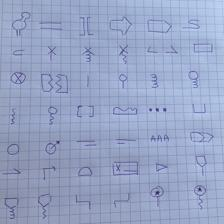aptamer: (12, 12, 31, 37)
assembly-scar: (38, 21, 62, 30)
blunt-restriction-site: (80, 17, 93, 36)
cds: (147, 19, 172, 33)
cds-arrow: (109, 17, 132, 35)
chromosomal-locus: (184, 19, 201, 29)
circular-plasmid: (12, 49, 26, 56)
composite: (145, 43, 177, 55)
dna-stability-element: (194, 155, 209, 176)
engineered-region: (192, 42, 214, 53)
five-prime-overhang: (75, 140, 97, 147)
five-prime-sticky-restriction-site: (73, 193, 93, 210)
inert-dna-spacer: (9, 71, 27, 84)
intron: (39, 72, 69, 94)
location-dna: (118, 73, 127, 89)
location-dna-no-top: (85, 75, 90, 88)
location-protein: (187, 70, 201, 89)
location-protein-no-top: (149, 72, 159, 89)
location-rna: (47, 105, 58, 127)
location-rna-no-top: (9, 107, 17, 126)
ncrna: (112, 106, 138, 115)
no-glyph-assigned: (76, 105, 95, 118)
nuclease-site: (47, 45, 56, 61)
omitted-detail: (148, 106, 167, 113)
operator: (191, 103, 207, 114)
origin-of-replication: (7, 143, 20, 156)
origin-of-transfer: (45, 140, 60, 155)
polyA: (150, 134, 170, 143)
polypeptide-region: (189, 130, 214, 143)
primer-binding-site: (2, 168, 23, 175)
promoter: (42, 165, 58, 179)
protease-site: (81, 47, 95, 63)
protein-stability-element: (4, 196, 20, 220)
ribonuclease-site: (118, 45, 131, 64)
ribosome-entry-site: (77, 166, 93, 177)
rna-stability-element: (37, 193, 52, 220)
signature: (111, 160, 140, 176)
specific-recombination-site: (155, 162, 168, 172)
three-prime-overhang: (114, 138, 137, 145)
three-prime-sticky-restriction-site: (113, 192, 131, 208)
transcription-end: (150, 185, 165, 207)
translation-end: (193, 184, 208, 210)
